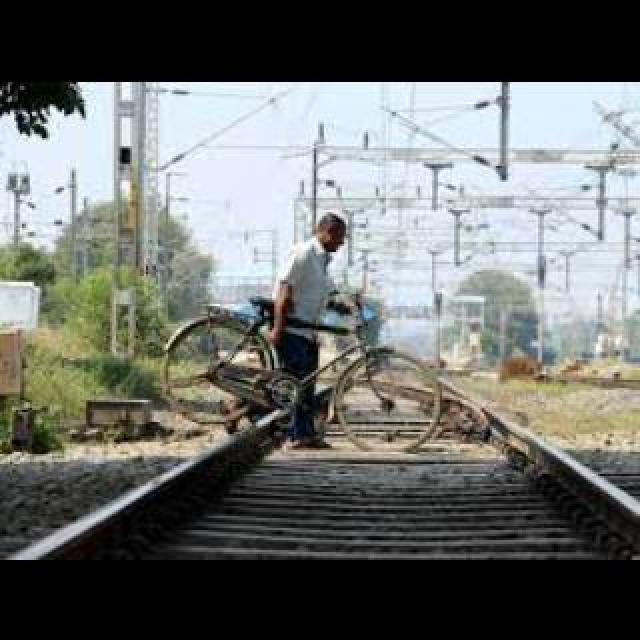people: (266, 208, 382, 450)
